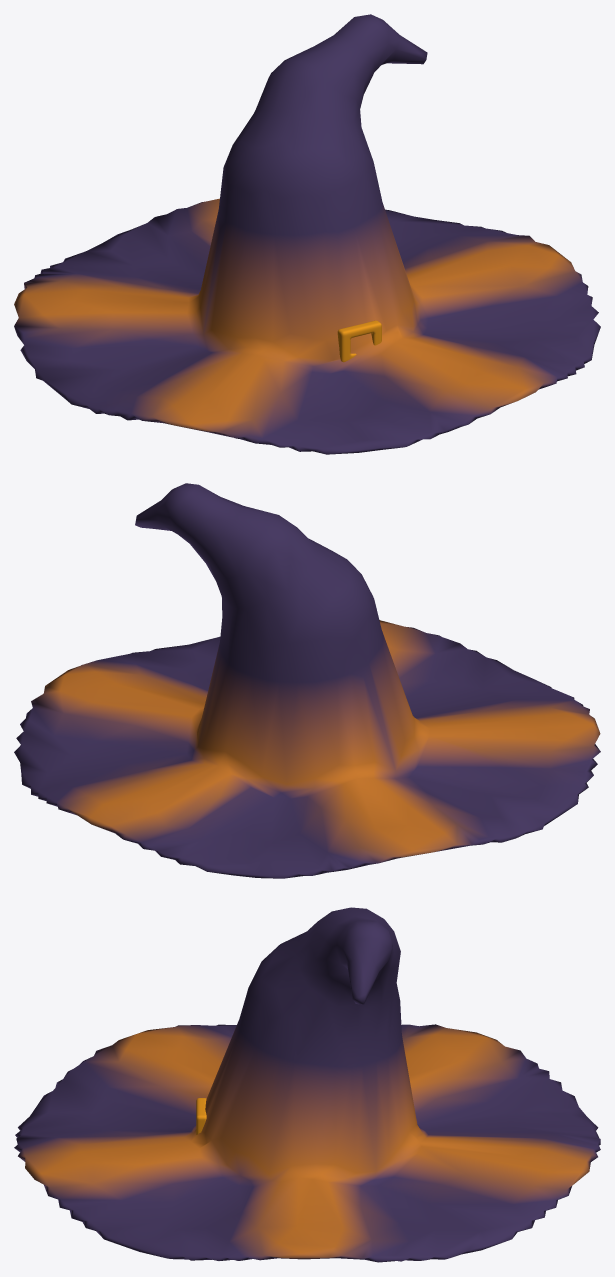
File: muphuthuy.glb
3 views of the same model, one above another, from view 1: azimuth 30°, elevation 25°; view 2: azimuth 150°, elevation 25°; view 3: azimuth 270°, elevation 25° (orthographic).
Parts seen in each view (by area): view 1: Mu_Phu_Thuy, Khoa_Mu; view 2: Mu_Phu_Thuy; view 3: Mu_Phu_Thuy.
Part boxes in pixels (box(x1,y1,x2,y2)): Mu_Phu_Thuy: box(14, 14, 600, 454); Khoa_Mu: box(337, 320, 381, 362); Mu_Phu_Thuy: box(14, 483, 600, 878); Mu_Phu_Thuy: box(14, 907, 600, 1262).
Bounding box in the file's own units: 0.3972 × 0.2365 × 0.3986.
